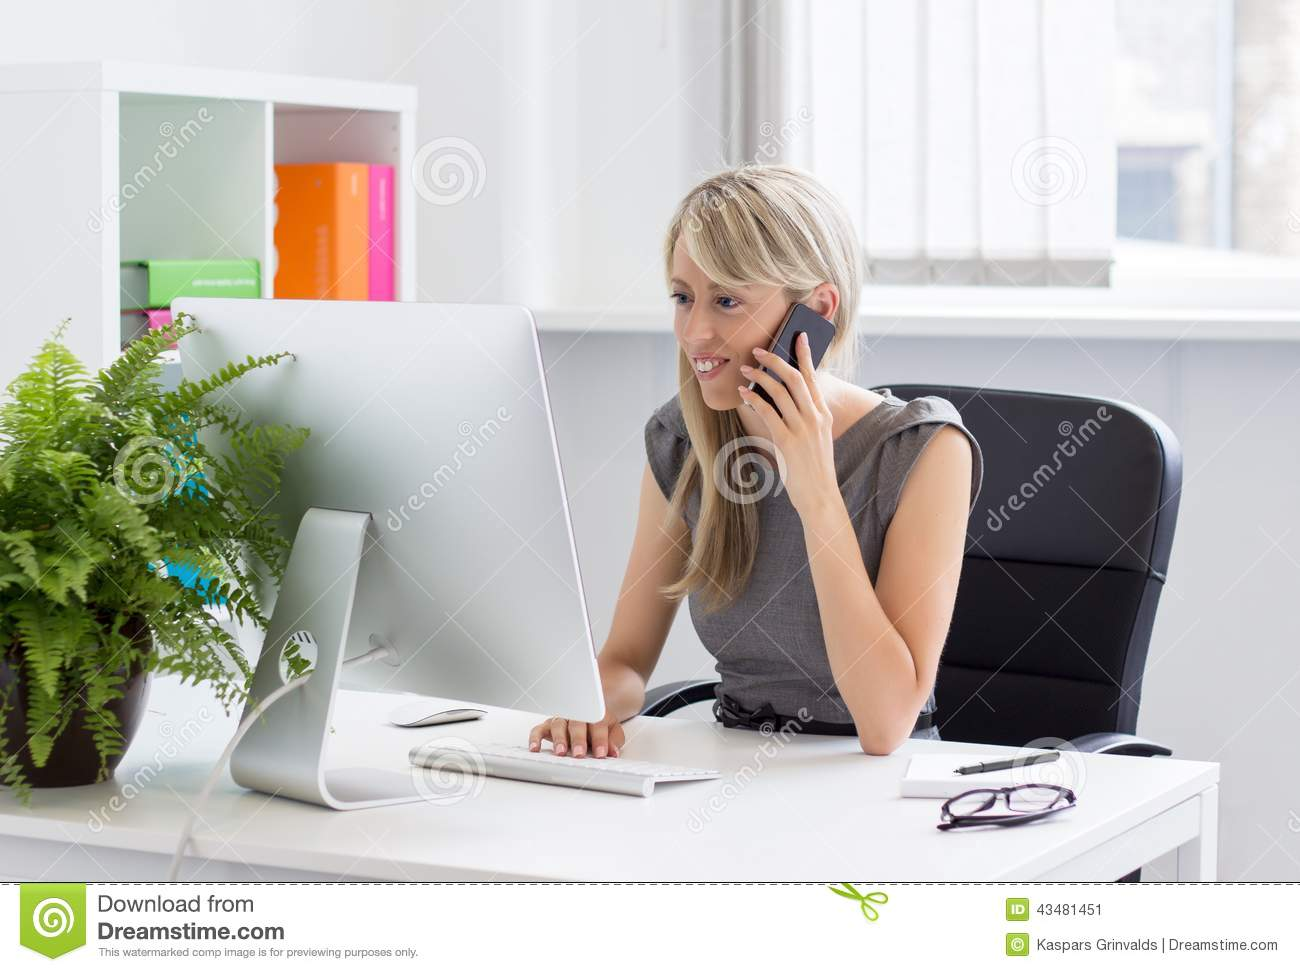phone: (749, 303, 838, 417)
talk: (666, 276, 839, 504)
